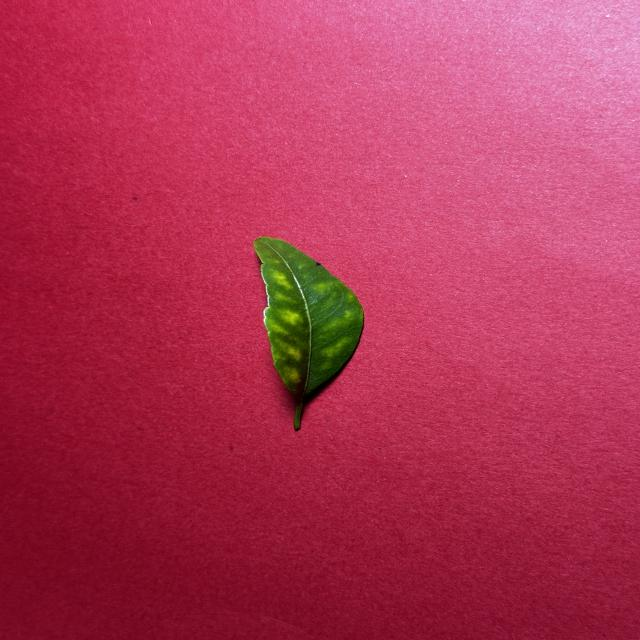greening: (254, 237, 363, 429)
